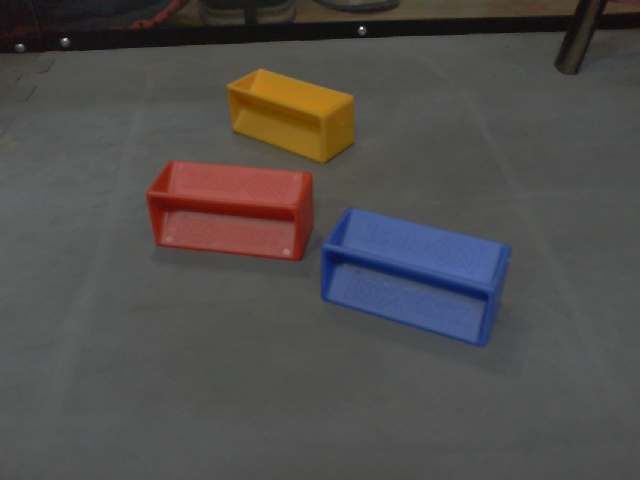BlueSample: (317, 205, 512, 348)
RedSample: (145, 152, 313, 263)
YellowSample: (224, 65, 359, 163)
